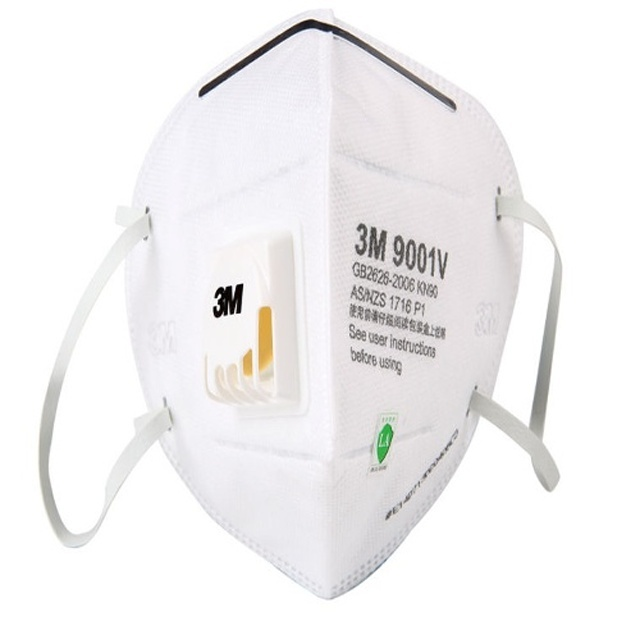mask: (34, 7, 572, 598)
